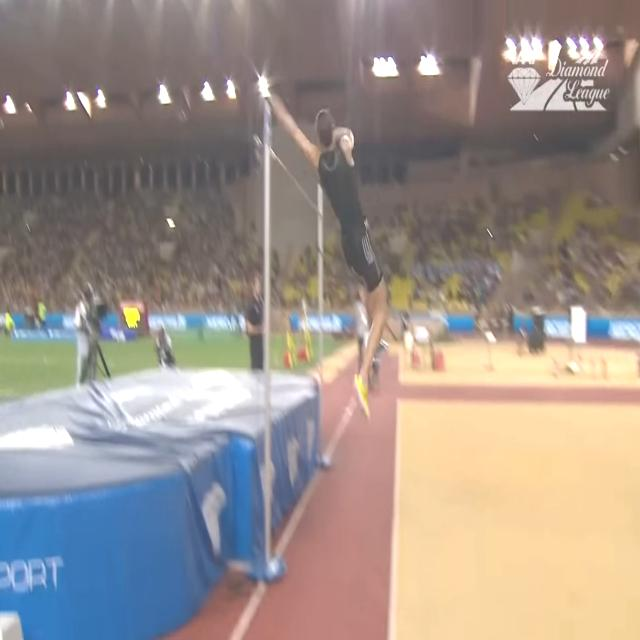jump: (272, 93, 387, 423)
